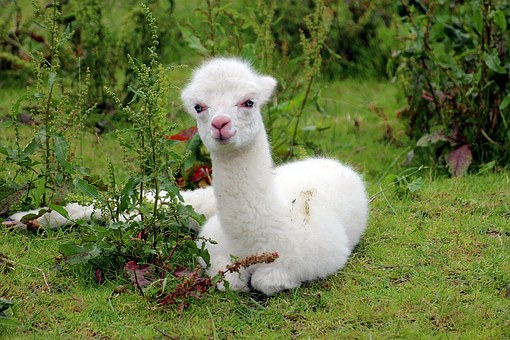alpaca: (3, 54, 371, 297)
